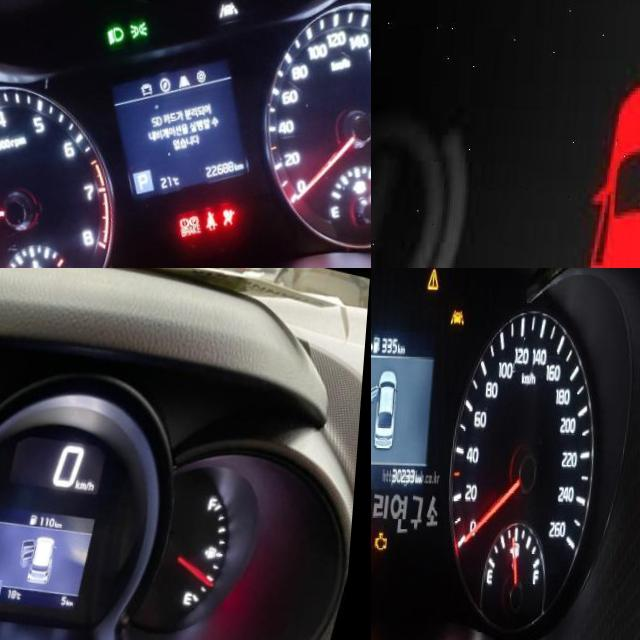Central Warning lamp: (429, 268, 443, 287)
LaneCenteringOff: (214, 0, 240, 16), (454, 304, 468, 321)
Low beam: (106, 21, 127, 43)
SideLamp: (129, 16, 151, 37)
